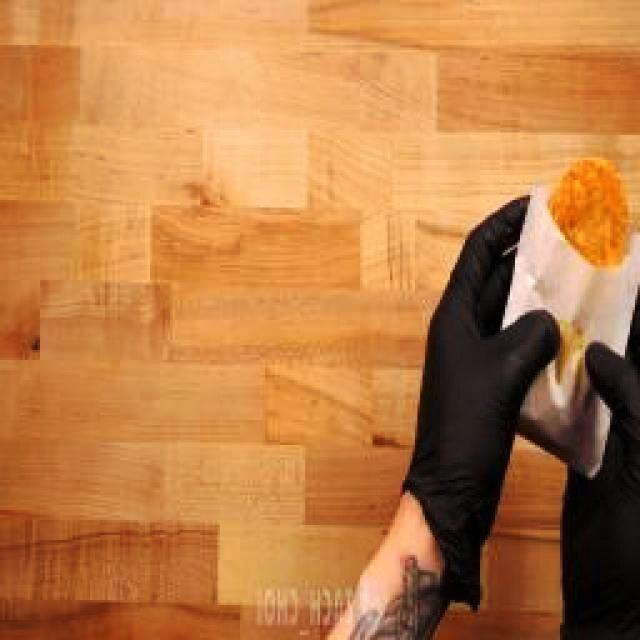Hashbrown: (547, 158, 627, 266)
